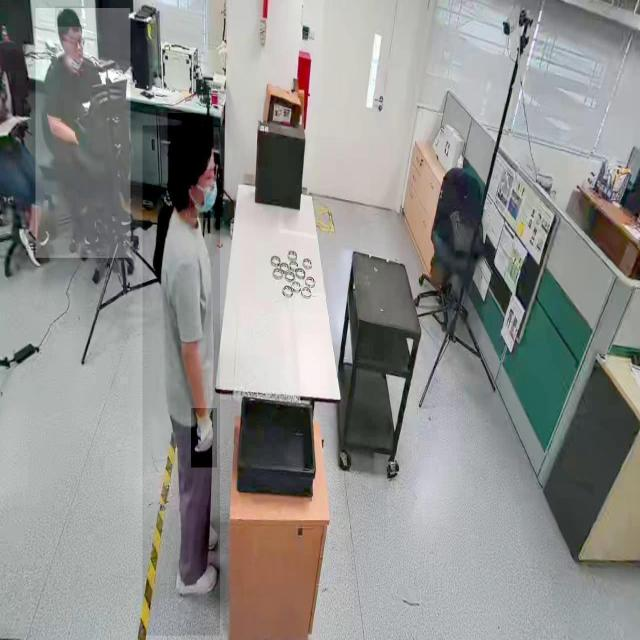face_mask: (191, 169, 223, 218)
hand_glove: (191, 408, 217, 468)
head_nohelmet: (168, 113, 214, 157), (55, 6, 82, 28)
person: (142, 126, 220, 636), (35, 8, 131, 259)
shoes: (16, 224, 45, 268)
